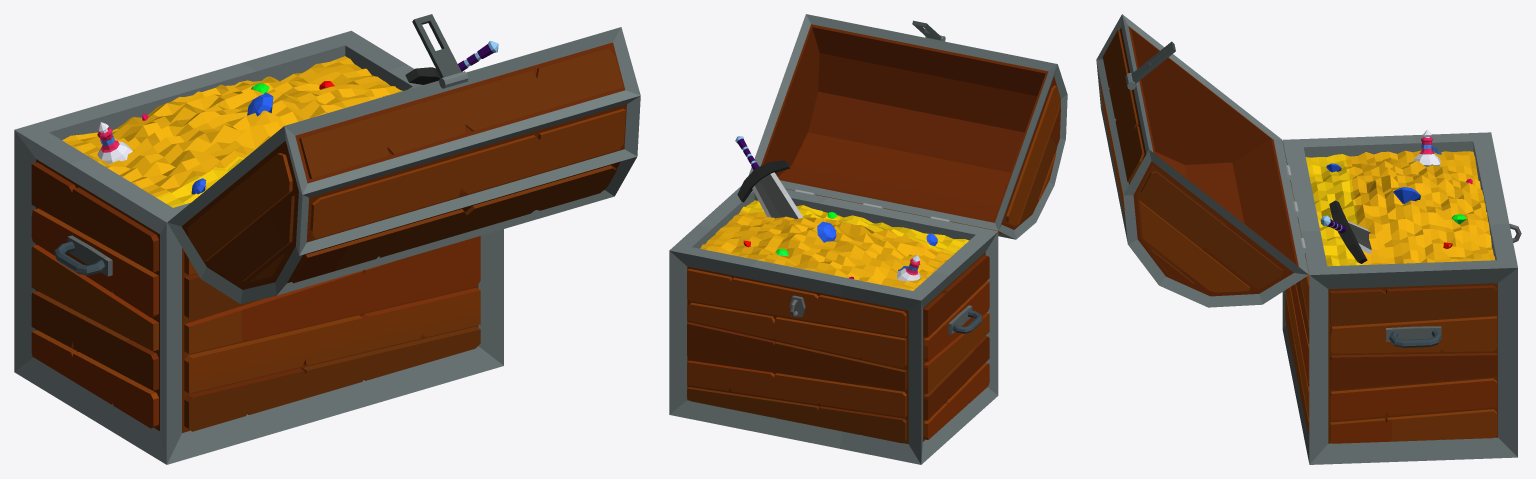
Rendered from cofre_cofre_0.006_lev3.glb.
3 views of the same model, side by side, from view 1: azimuth 30°, elevation 25°; view 2: azimuth 150°, elevation 25°; view 3: azimuth 270°, elevation 25° (orthographic). The views are drawn at different scales.
Parts seen in each view (by area): view 1: cofre_cofre_0.006_lev3; view 2: cofre_cofre_0.006_lev3; view 3: cofre_cofre_0.006_lev3.
Part boxes in pixels (bbox=[...]): cofre_cofre_0.006_lev3: bbox=[14, 14, 640, 464]; cofre_cofre_0.006_lev3: bbox=[669, 14, 1067, 464]; cofre_cofre_0.006_lev3: bbox=[1096, 14, 1521, 464].
Size of the model in its own units: 2.99 by 3.18 by 3.45.
Materials: 1 (1 with a texture image).
